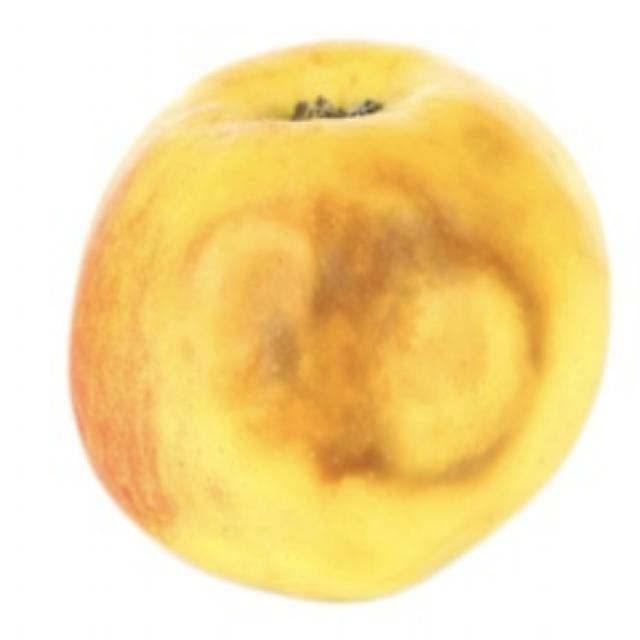Rotten: (75, 65, 613, 552)
